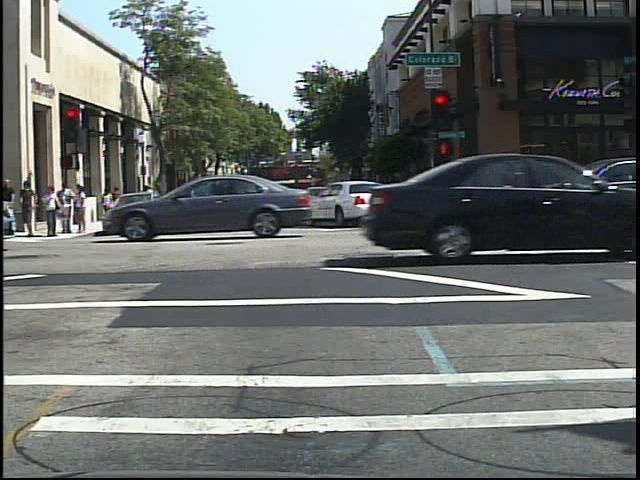person: (102, 186, 118, 225), (142, 181, 157, 213), (138, 181, 153, 212)
